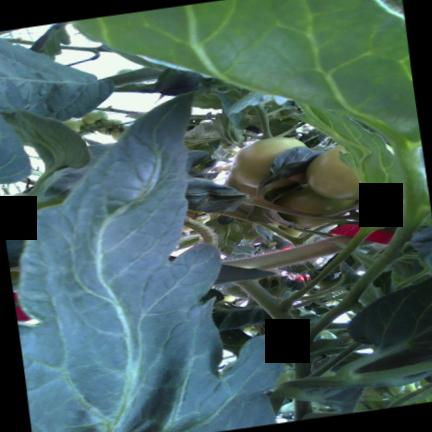MainStem: (221, 234, 351, 270)
tomato: (231, 137, 304, 187), (274, 187, 355, 227), (306, 144, 362, 199), (81, 110, 106, 124), (62, 118, 82, 132)
